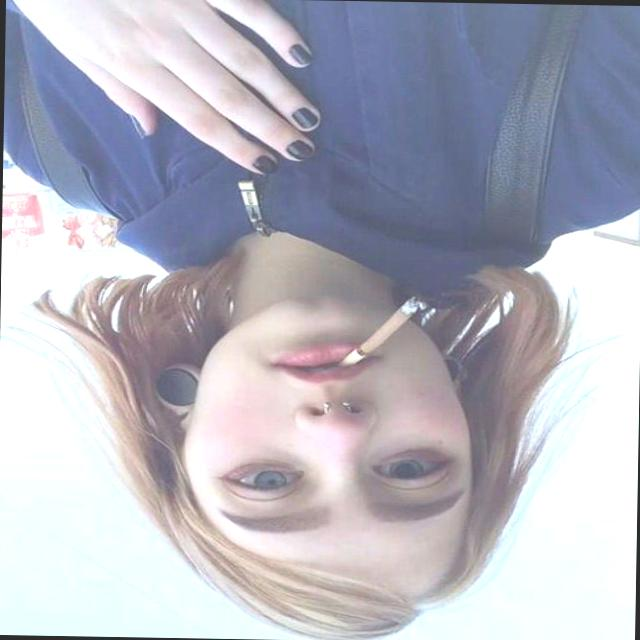smoke: (339, 274, 428, 384)
